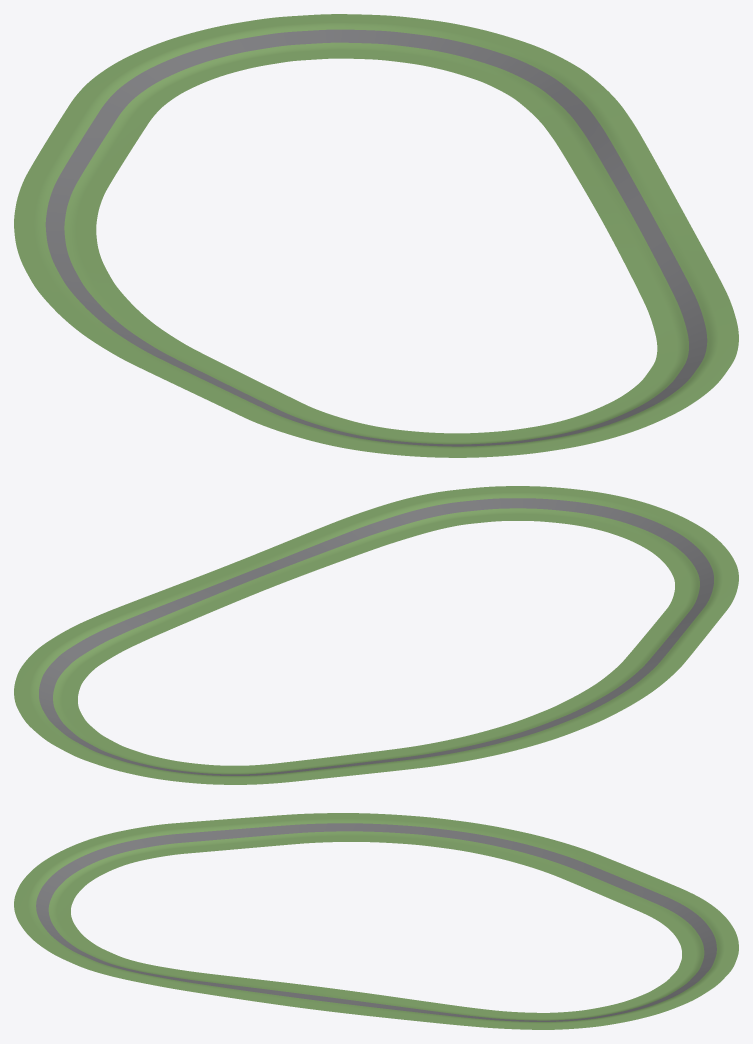
Rendered from road_mesh.glb.
3 views of the same model, one above another, from view 1: azimuth 30°, elevation 25°; view 2: azimuth 150°, elevation 25°; view 3: azimuth 270°, elevation 25° (orthographic). The views are drawn at different scales.
Parts seen in each view (by area): view 1: road_09, road_10, road_08, road_11, road_07, road_06, road_05, road_12, road_13, road_04, road_00, road_01 (+2 smaller); view 2: road_04, road_03, road_07, road_05, road_02, road_06, road_08, road_01, road_00, road_13, road_09, road_12 (+2 smaller); view 3: road_01, road_00, road_02, road_11, road_13, road_12, road_10, road_03, road_06, road_09, road_05, road_04 (+2 smaller).
Part boxes in pixels (x1,y1,x2,y2): road_09: [271, 14, 478, 68]; road_10: [104, 18, 291, 98]; road_08: [440, 29, 611, 117]; road_11: [42, 70, 172, 166]; road_07: [536, 95, 662, 187]; road_06: [583, 174, 704, 262]; road_05: [624, 251, 737, 338]; road_12: [14, 149, 120, 236]; road_13: [14, 231, 132, 312]; road_04: [616, 326, 738, 410]; road_00: [58, 305, 227, 379]; road_01: [166, 366, 344, 437]; road_04: [388, 486, 546, 533]; road_03: [538, 487, 687, 544]; road_07: [68, 587, 214, 653]; road_05: [276, 504, 423, 568]; road_02: [639, 520, 738, 591]; road_06: [171, 546, 319, 610]; road_08: [14, 630, 117, 700]; road_01: [637, 585, 737, 647]; road_00: [579, 645, 696, 705]; road_13: [482, 694, 629, 750]; road_09: [14, 693, 122, 757]; road_12: [359, 732, 515, 772]; road_01: [125, 817, 264, 858]; road_00: [254, 813, 389, 846]; road_02: [27, 830, 148, 891]; road_11: [586, 865, 715, 926]; road_13: [383, 814, 520, 856]; road_12: [494, 831, 625, 888]; road_10: [666, 908, 738, 970]; road_03: [14, 876, 81, 936]; road_06: [254, 981, 392, 1016]; road_09: [615, 967, 731, 1017]; road_05: [131, 965, 270, 1001]; road_04: [30, 934, 154, 980].
Size of the model in its own units: 701 by 11.22 by 983.
